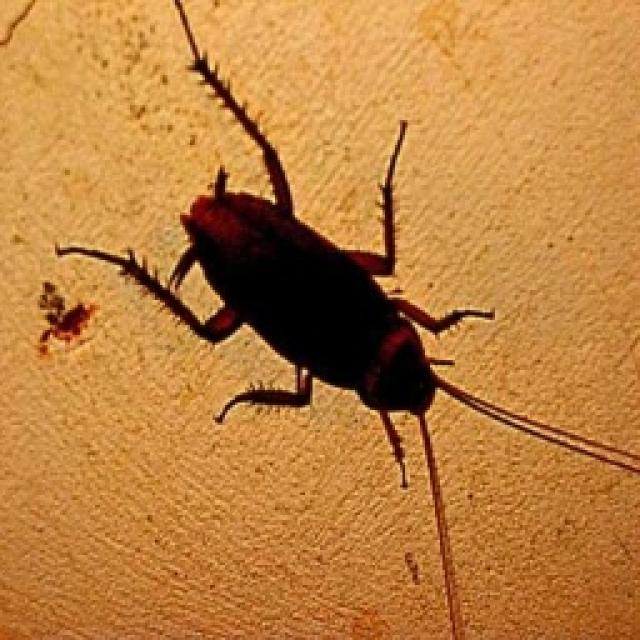cockroach: (180, 185, 441, 417)
